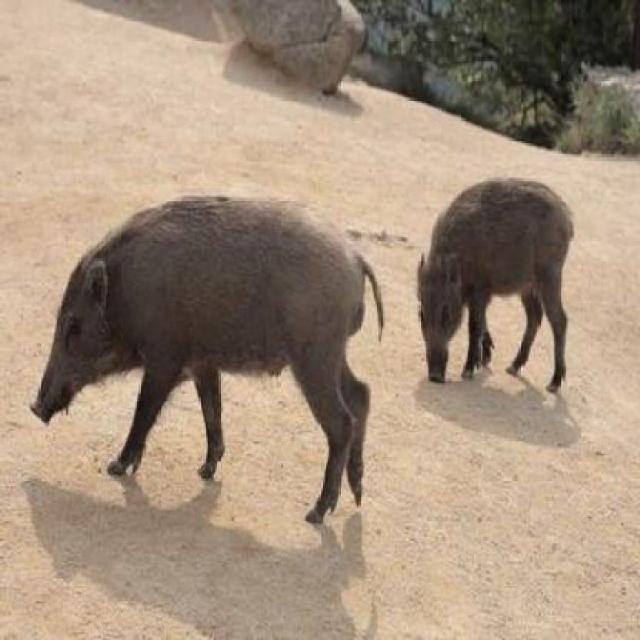Boar: (14, 131, 412, 554)
